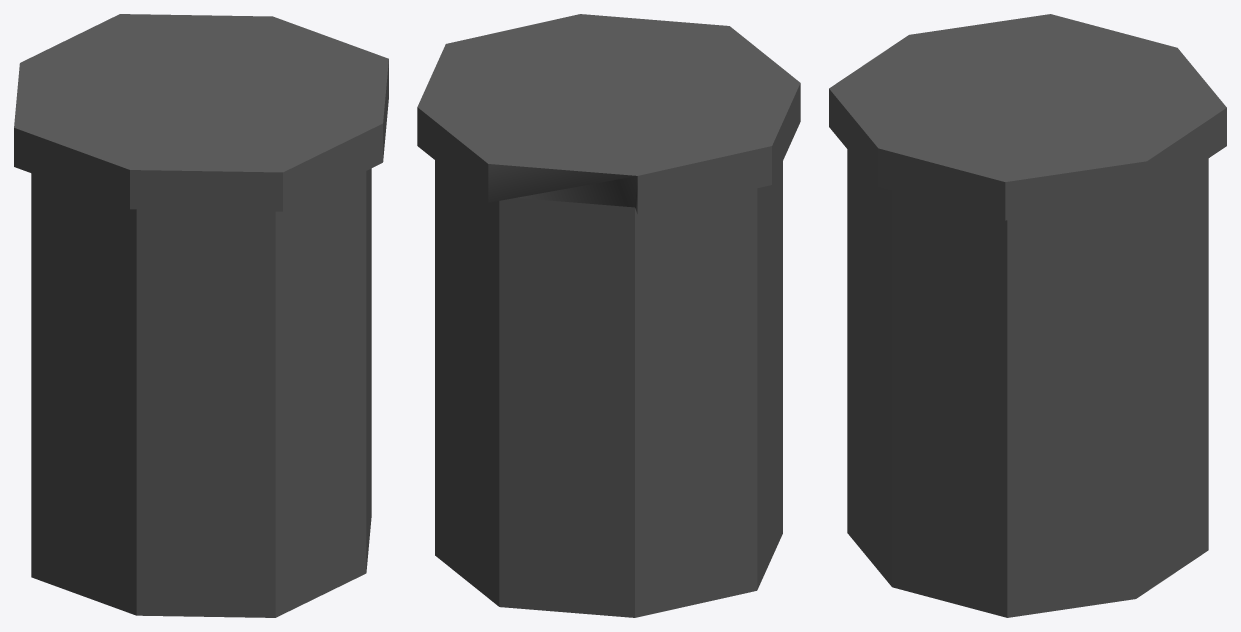
Rendered from Jar_9.fbx.
The picture shows the model from 3 angles, left to right: view 1: azimuth 30°, elevation 25°; view 2: azimuth 150°, elevation 25°; view 3: azimuth 270°, elevation 25°; orthographic projection. The views are drawn at different scales.
Parts seen in each view (by area): view 1: Jar_9; view 2: Jar_9; view 3: Jar_9.
Boxes of the visible parts, left/top/right/bottom form: Jar_9: left=14, top=14, right=388, bottom=617; Jar_9: left=417, top=14, right=800, bottom=617; Jar_9: left=829, top=14, right=1226, bottom=617.
Bounding box in the file's own units: 29.08 × 29.08 × 35.75.
